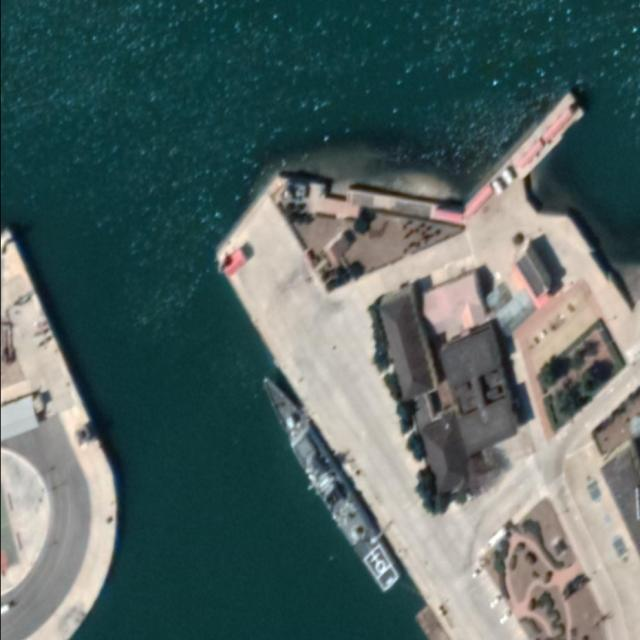Auxiliary Ships: (252, 370, 405, 595)
